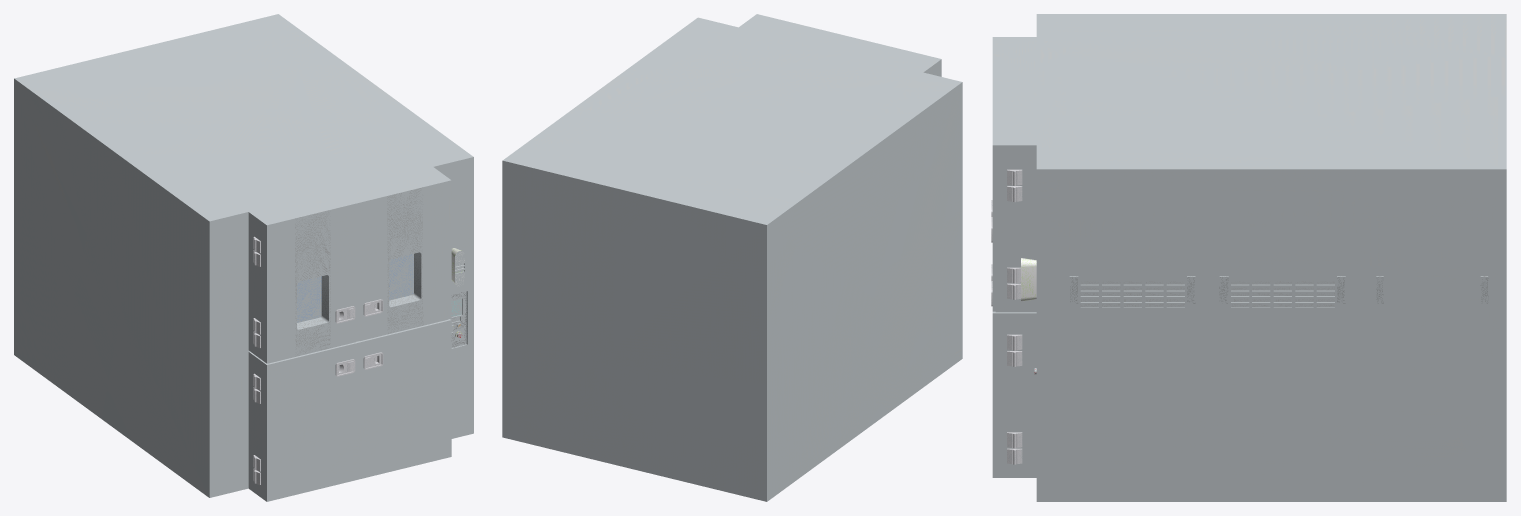
3 views of the same model, side by side, from view 1: azimuth 30°, elevation 25°; view 2: azimuth 150°, elevation 25°; view 3: azimuth 270°, elevation 25° (orthographic). The views are drawn at different scales.
Visible parts, largest first — view 1: SketchUp.015, SketchUp.186, SketchUp.021, SketchUp.158, SketchUp.009, SketchUp.006, SketchUp.157; view 2: SketchUp.015; view 3: SketchUp.015, SketchUp.033.
Boxes of the visible parts, x1,y1,x2,y2 form: SketchUp.015: [14, 14, 473, 501]; SketchUp.186: [387, 187, 423, 334]; SketchUp.021: [295, 210, 331, 356]; SketchUp.158: [297, 276, 321, 322]; SketchUp.009: [389, 254, 413, 300]; SketchUp.006: [389, 252, 421, 307]; SketchUp.157: [297, 275, 328, 329]; SketchUp.015: [502, 14, 962, 501]; SketchUp.015: [992, 14, 1506, 501]; SketchUp.033: [1021, 258, 1036, 301].
Size of the model in its own units: 2.51 by 2.5 by 3.51.
Materials: 17 (1 with a texture image).
